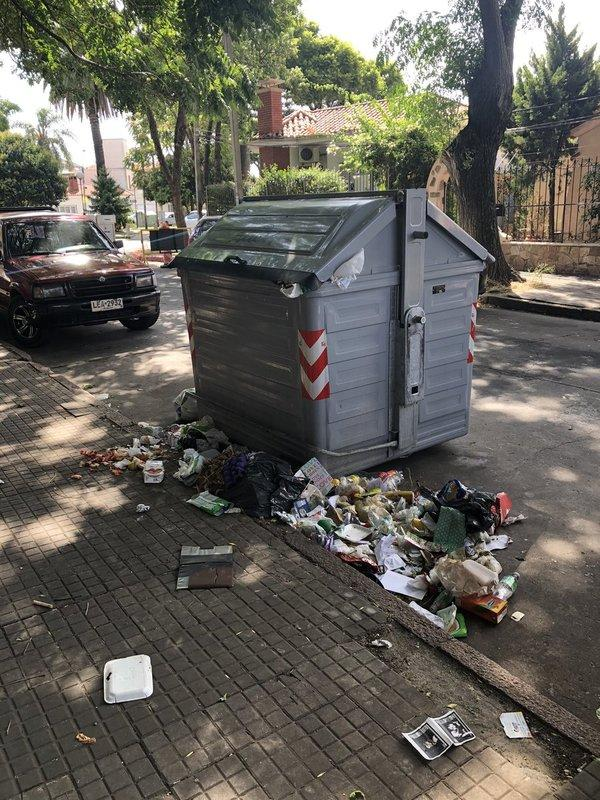Dechets: (293, 471, 523, 638), (81, 417, 289, 519), (225, 452, 290, 518), (403, 709, 474, 760), (429, 551, 500, 598), (181, 541, 239, 595), (101, 653, 156, 702), (498, 707, 535, 746), (175, 388, 199, 422)
Trash: (174, 189, 494, 474)
